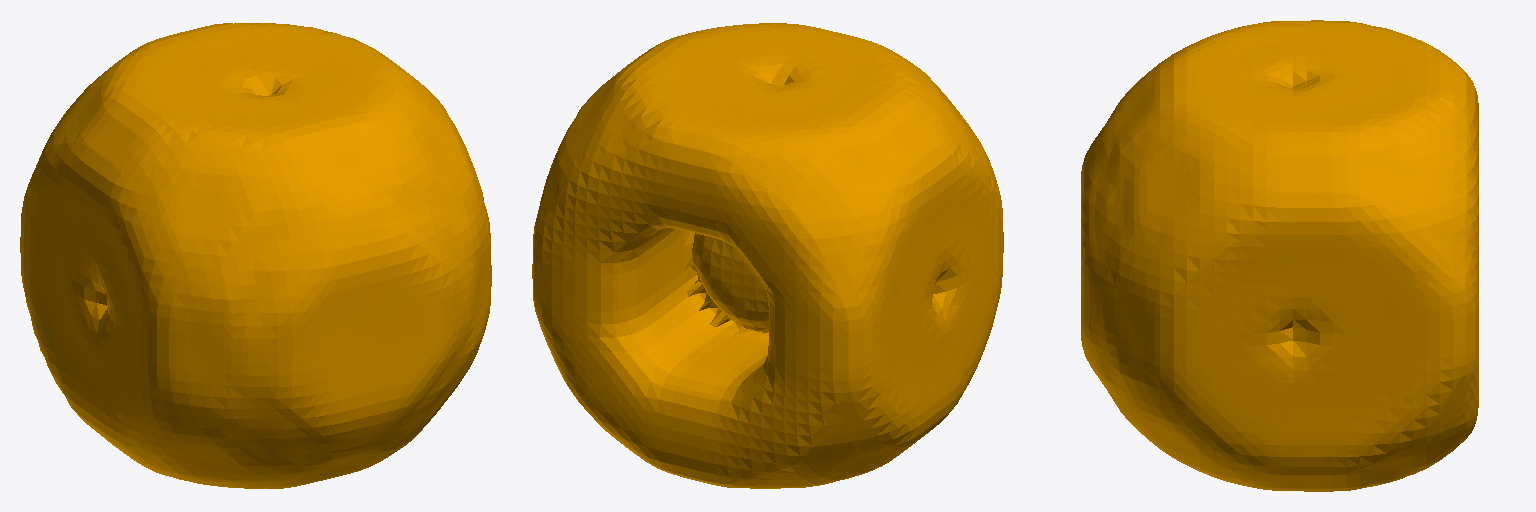
The robot description file, URDF, robot "E07_2":
<?xml version="1.0"?>
<robot name="E07_2">
  <link name="base_link">
    <inertial>
      <mass value="0.13537" />
      <origin xyz="0 0 0" />
      <inertia  ixx="0.0002" ixy="0.0"  ixz="0.0"  iyy="0.0002"  iyz="0.0" izz="0.0002" />
    </inertial>
    <visual>
      <geometry>
        <mesh filename="../../../meshes/egad/train/E07_2.obj" />
      </geometry>
    </visual>
    <collision>
      <geometry>
        <mesh filename="../../../meshes/egad/train/E07_2.obj" />
      </geometry>
    </collision>
  </link>
</robot>

--- Facts derived from the render (not from the file) ---
Views: 3 orthographic renders of the robot side by side, from view 1: azimuth 30°, elevation 25°; view 2: azimuth 150°, elevation 25°; view 3: azimuth 270°, elevation 25°.
Model E07_2 with 1 links and 0 joints (none), rooted at base_link, posed all joints at 0.
Visible links, largest first — view 1: base_link; view 2: base_link; view 3: base_link.
Boxes of the visible links, x1,y1,x2,y2 form: base_link: (20,23,491,488); base_link: (532,23,1003,488); base_link: (1081,20,1478,491).
Bounding box of the posed robot: 0.06 × 0.0601 × 0.06 m (x, y, z).
Meshes: 1 distinct files referenced, 1 mesh visuals loaded (1 OBJ).